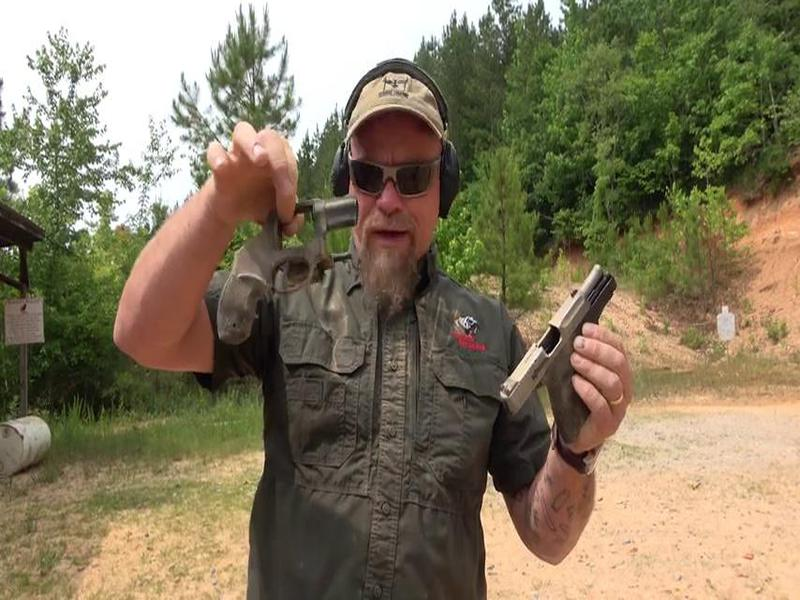Pistola: (480, 254, 637, 466)
Revolver: (189, 160, 386, 364)
